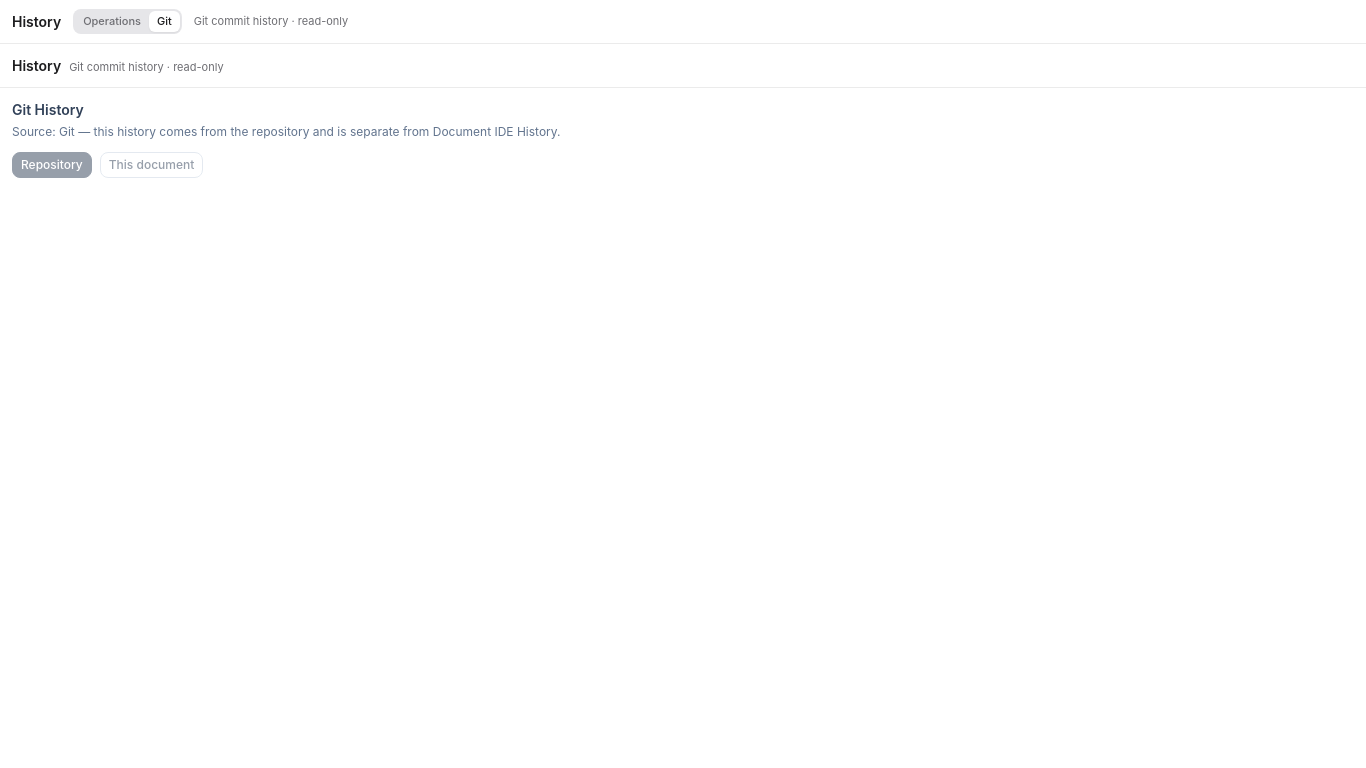
Test case: HistoryScreen (UI-03 screen 10) › renders operations with the real outcome chips and storage meter from the history payload
Step 1. Click the radio button labelled "Operations" → [112, 22], box [75,11,149,32]
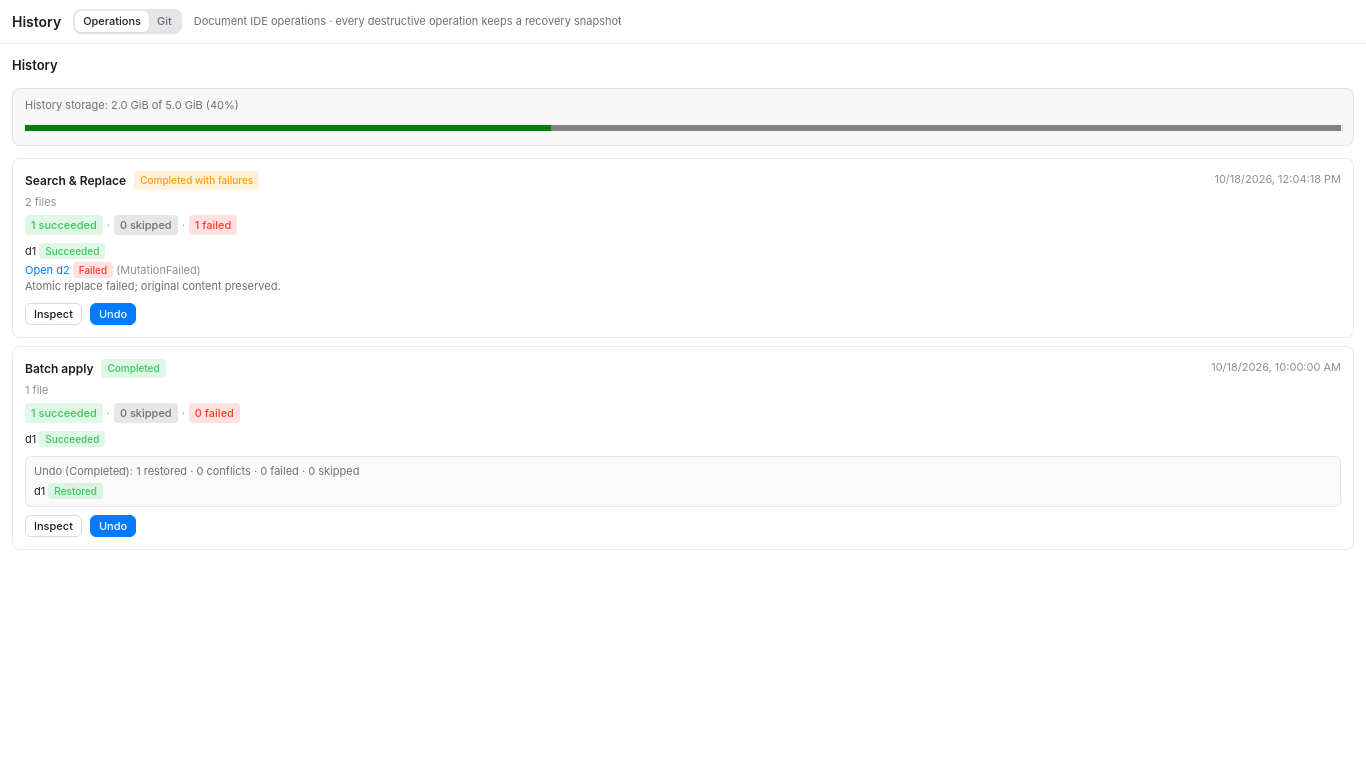
Expected: the list named "Operation history" is shown, [12,158,1354,550]
Expected: the heading "Search & Replace" is shown, [25,172,126,188]
Expected: the text with test id "history-entry-status" reads "Completed with failures", [140,174,253,186]
